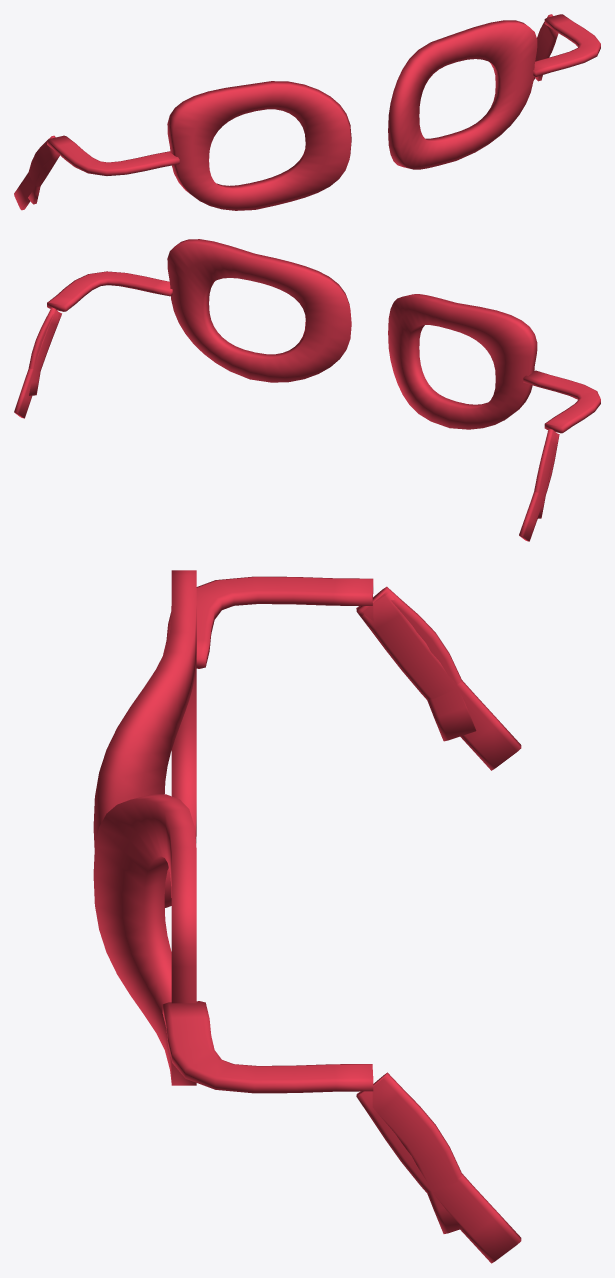
File: hero_mask-panda.glb
The picture shows the model from 3 angles, top to bottom: view 1: azimuth 30°, elevation 25°; view 2: azimuth 150°, elevation 25°; view 3: azimuth 270°, elevation 25°; orthographic projection. The views are drawn at different scales.
Parts seen in each view (by area): view 1: mask.001, mask, tie.001, tie, tail.003, tail.002, tail.001; view 2: mask, mask.001, tie, tie.001, tail.001, tail.002, tail.003, tail; view 3: mask, mask.001, tie, tail.003, tie.001, tail, tail.001, tail.002.
Boxes of the visible parts, x1=… form: mask.001: x1=167, y1=81, x2=351, y2=210; mask: x1=388, y1=20, x2=537, y2=169; tie.001: x1=47, y1=135, x2=179, y2=175; tie: x1=533, y1=14, x2=600, y2=76; tail.003: x1=14, y1=150, x2=59, y2=210; tail.002: x1=28, y1=135, x2=55, y2=204; tail.001: x1=533, y1=16, x2=558, y2=80; mask: x1=167, y1=239, x2=351, y2=382; mask.001: x1=388, y1=294, x2=537, y2=429; tie: x1=47, y1=271, x2=172, y2=311; tie.001: x1=523, y1=370, x2=600, y2=433; tail.001: x1=14, y1=310, x2=61, y2=418; tail.002: x1=534, y1=429, x2=556, y2=518; tail.003: x1=519, y1=433, x2=559, y2=541; tail: x1=28, y1=307, x2=61, y2=395; mask: x1=93, y1=794, x2=196, y2=1085; mask.001: x1=93, y1=570, x2=196, y2=907; tie: x1=162, y1=1001, x2=373, y2=1093; tail.003: x1=356, y1=593, x2=521, y2=770; tie.001: x1=163, y1=576, x2=373, y2=668; tail: x1=372, y1=1072, x2=462, y2=1233; tail.001: x1=356, y1=1091, x2=521, y2=1263; tail.002: x1=359, y1=586, x2=476, y2=741.
Bounding box in the file's own units: 1.35 × 0.3604 × 0.4807.
